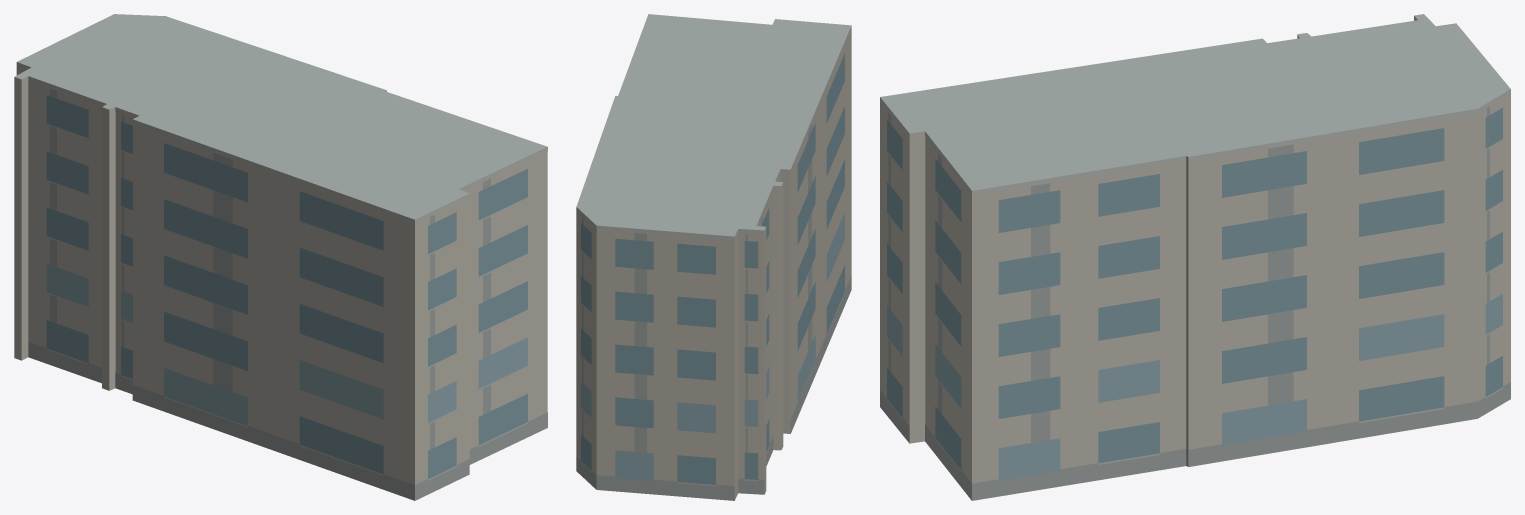
Rendered from survey-upis-32804990.glb.
3 views of the same model, side by side, from view 1: azimuth 30°, elevation 25°; view 2: azimuth 150°, elevation 25°; view 3: azimuth 270°, elevation 25° (orthographic). The views are drawn at different scales.
Visible parts, largest first — view 1: survey-upis-32804990.tmp; view 2: survey-upis-32804990.tmp; view 3: survey-upis-32804990.tmp.
Boxes of the visible parts, x1,y1,x2,y2 form: survey-upis-32804990.tmp: [14, 14, 547, 500]; survey-upis-32804990.tmp: [576, 14, 851, 500]; survey-upis-32804990.tmp: [880, 14, 1510, 500].
Bounding box in the file's own units: 18.11 × 14.8 × 27.29.
